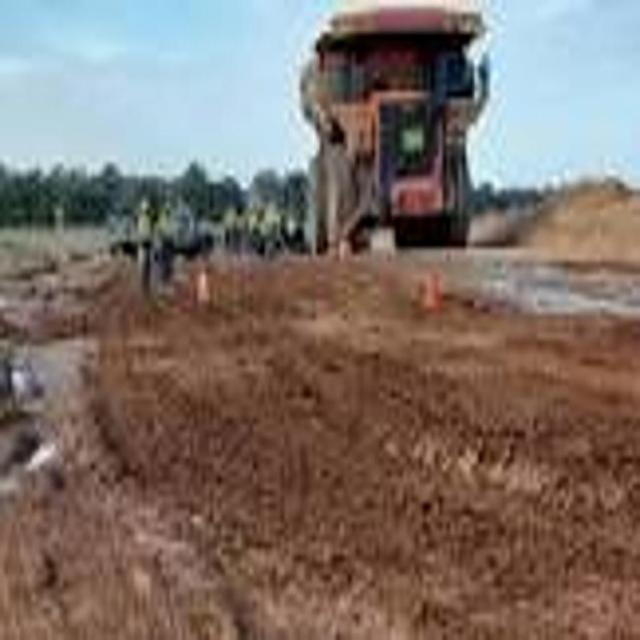dump_truck: (297, 1, 494, 264)
